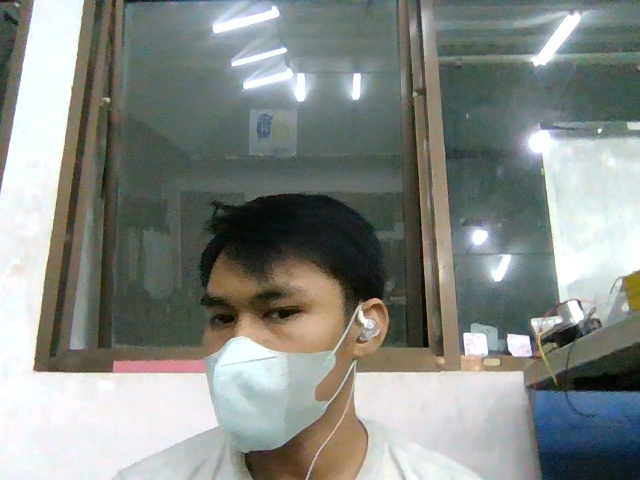mask_on: (204, 336, 356, 452)
